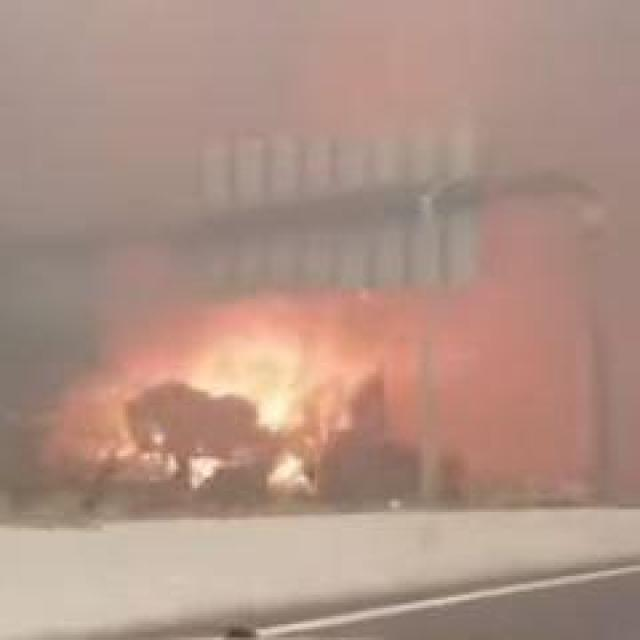Fire: (214, 310, 326, 439)
Smoke: (0, 5, 639, 240)
